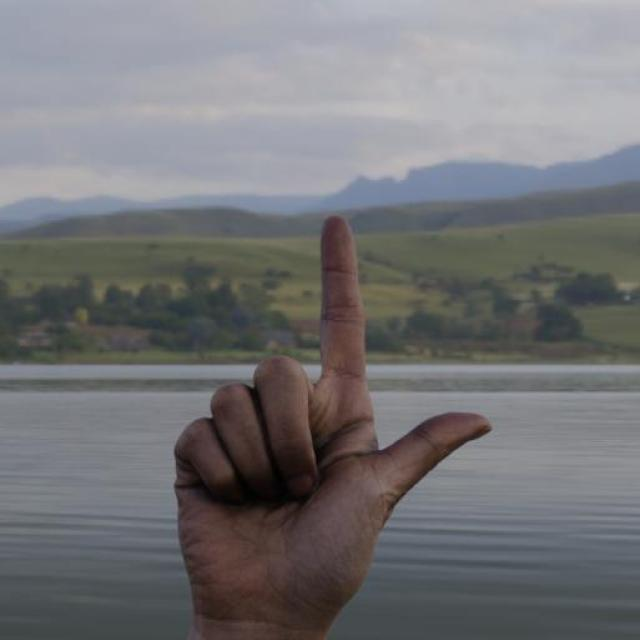L: (170, 211, 496, 640)
